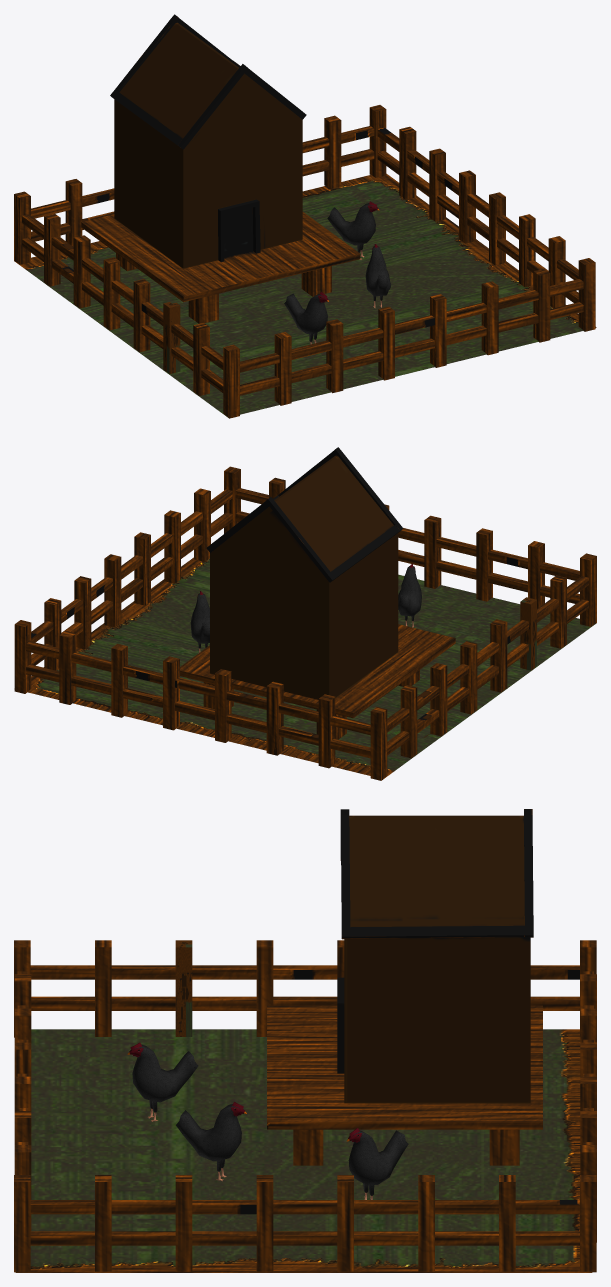
File: farm.obj
The picture shows the model from 3 angles, top to bottom: view 1: azimuth 30°, elevation 25°; view 2: azimuth 150°, elevation 25°; view 3: azimuth 270°, elevation 25°; orthographic projection. The views are drawn at different scales.
Visible parts, largest first — view 1: Cube_Cube.000, Cube_Cube.002, Cube_Cube.003, Cube_Cube.004; view 2: Cube_Cube.000, Cube_Cube.003, Cube_Cube.002; view 3: Cube_Cube.000, Cube_Cube.003, Cube_Cube.004, Cube_Cube.002.
Part boxes in pixels (left/top/right/bottom): Cube_Cube.000: left=14, top=14, right=596, bottom=418; Cube_Cube.002: left=327, top=201, right=379, bottom=259; Cube_Cube.003: left=284, top=292, right=328, bottom=344; Cube_Cube.004: left=365, top=244, right=390, bottom=307; Cube_Cube.000: left=14, top=447, right=596, bottom=780; Cube_Cube.003: left=398, top=563, right=421, bottom=627; Cube_Cube.002: left=190, top=591, right=209, bottom=652; Cube_Cube.000: left=14, top=809, right=596, bottom=1272; Cube_Cube.003: left=127, top=1042, right=198, bottom=1121; Cube_Cube.004: left=176, top=1102, right=246, bottom=1181; Cube_Cube.002: left=347, top=1128, right=408, bottom=1199.
Bounding box in the file's own units: 2.96 × 1.77 × 3.
Materials: 2 (2 with a texture image).
